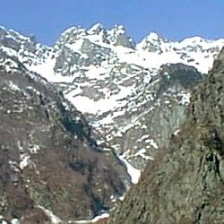neutral: (2, 6, 221, 220)
